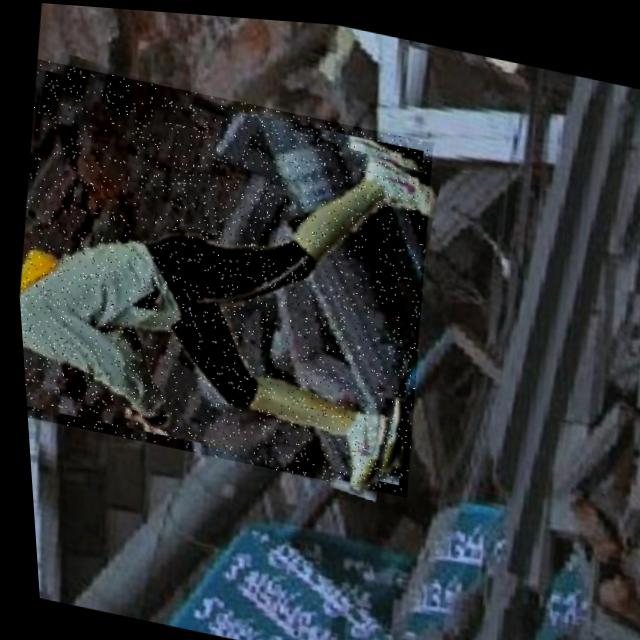Person in Rubble: (3, 55, 451, 494)
